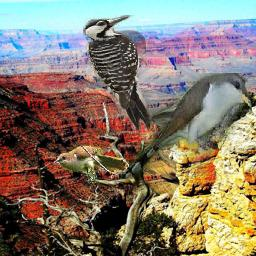Cuckoo: (120, 73, 252, 179), (55, 145, 130, 183)
Woodpecker: (84, 15, 153, 131)
